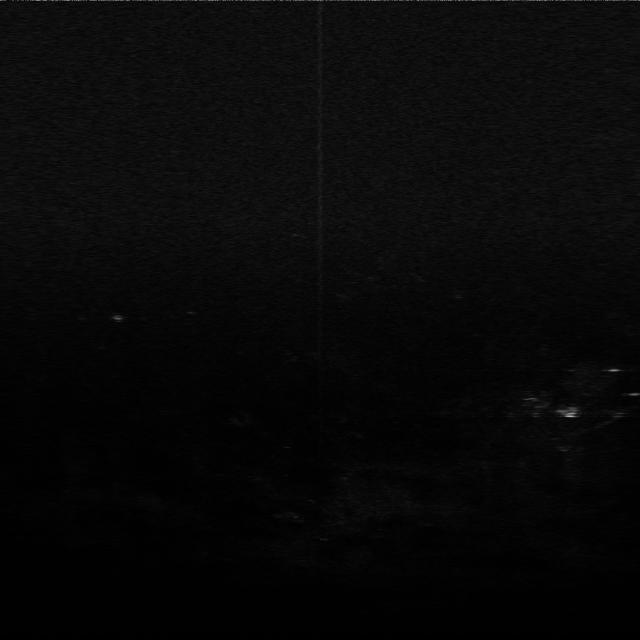rov: (550, 403, 586, 422)
